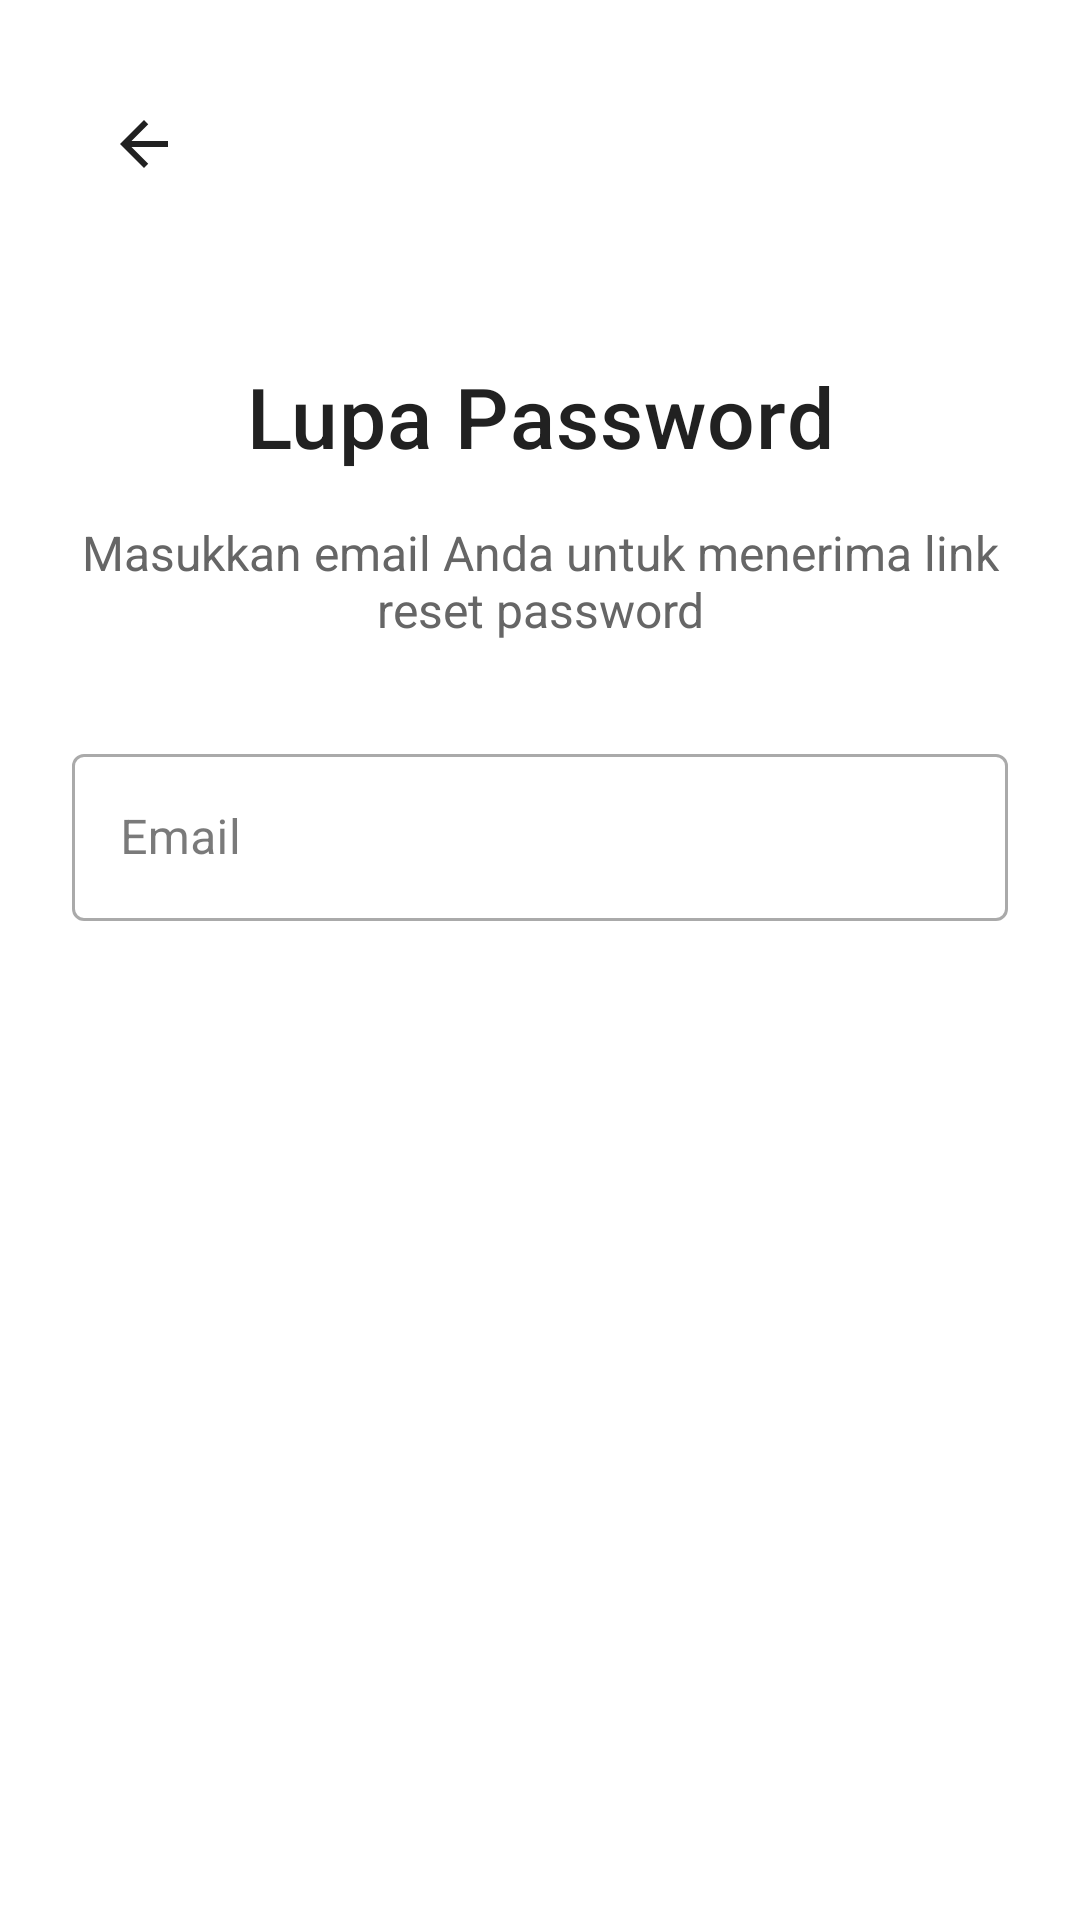

Icon click points for this 1080 × 1920 phone screenshot, format point (x, y):
Kembali: point (144, 144)
